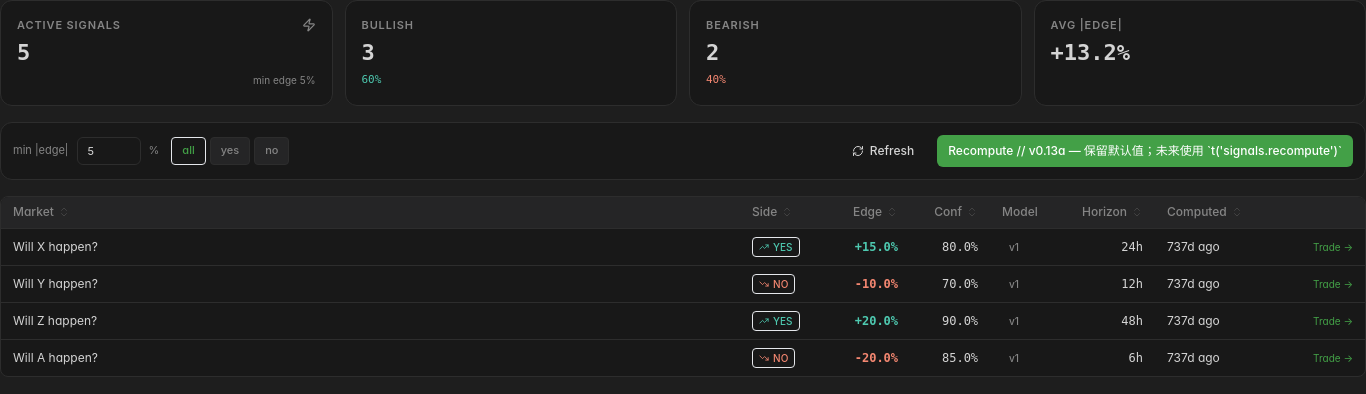
Test case: Signals (extended) › filters to only NO (bearish) when side=no is clicked
Expected: the link "Will X happen?" is shown, [13, 239, 98, 254]
Click the button "no" at (272, 150), box [254, 136, 290, 164]
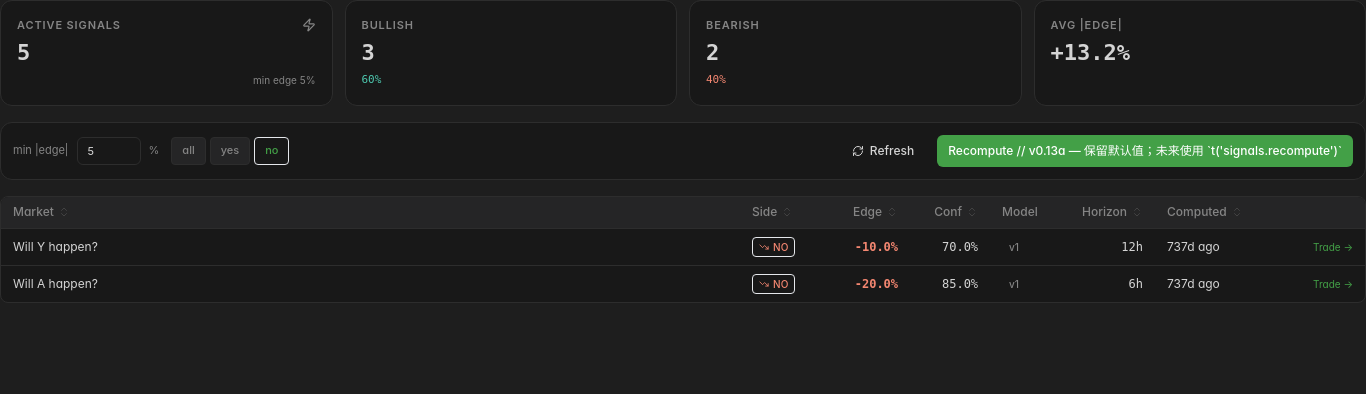
Expected: the link "Will Y happen?" is shown, [13, 239, 98, 254]
Expected: the link "Will X happen?" is gone
